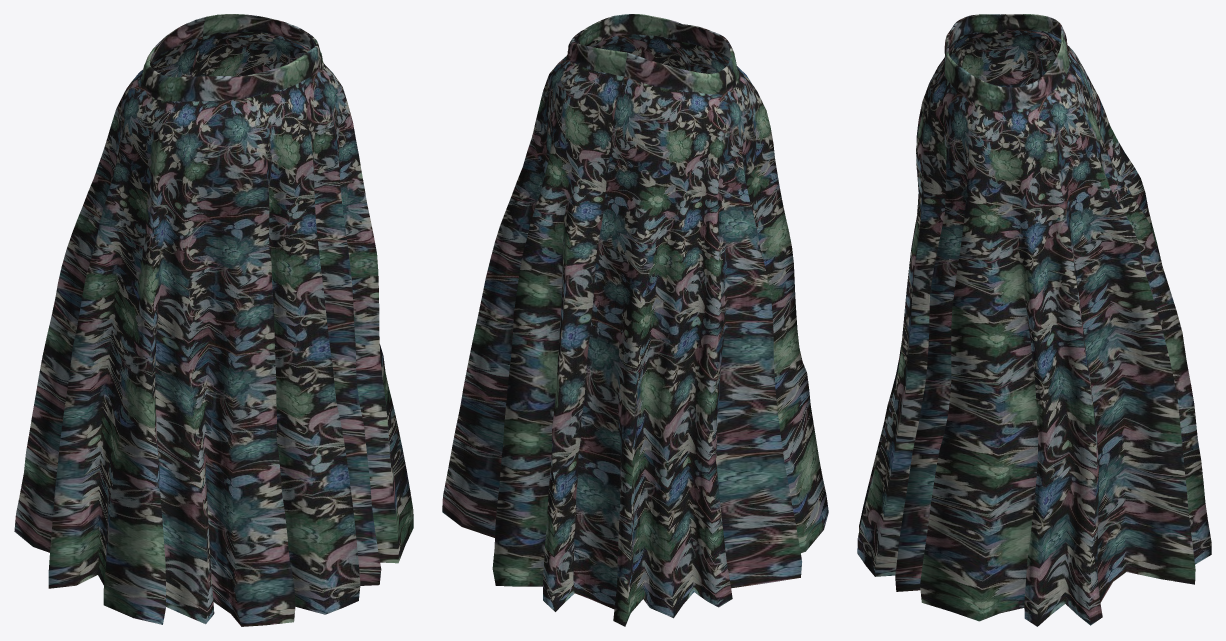
Rendered from bottom_long_skirt.gltf.
3 renders of one model, left to right at view 1: azimuth 30°, elevation 25°; view 2: azimuth 150°, elevation 25°; view 3: azimuth 270°, elevation 25°, orthographic. The views are drawn at different scales.
Parts seen in each view (by area): view 1: bottom_long_skirt; view 2: bottom_long_skirt; view 3: bottom_long_skirt.
Part boxes in pixels (x1,y1,x2,y2): bottom_long_skirt: (14,14,413,626); bottom_long_skirt: (442,14,828,626); bottom_long_skirt: (857,14,1211,626).
Size of the model in its own units: 0.6277 by 0.9296 by 0.5608.
1 material, 1 textured.
